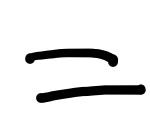eqv: (23, 44, 148, 103)
